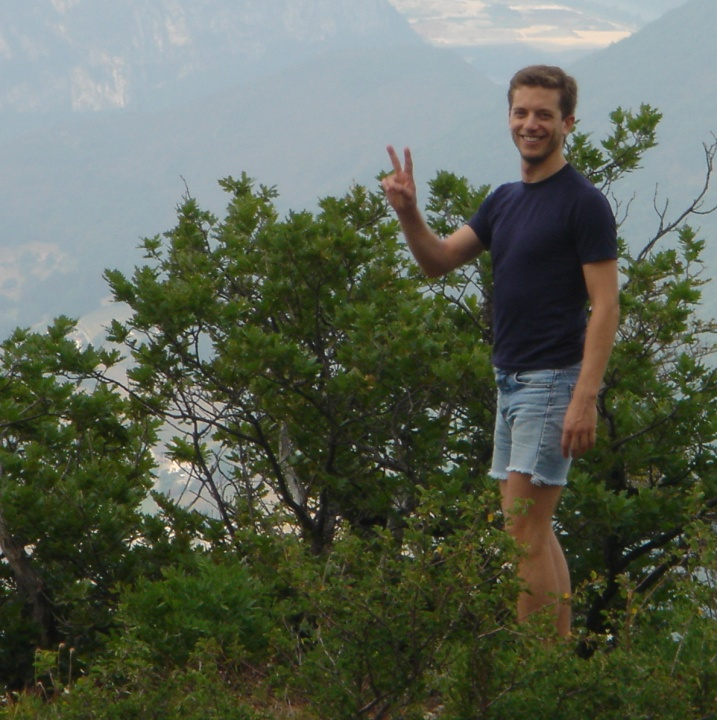person: (475, 68, 621, 709)
